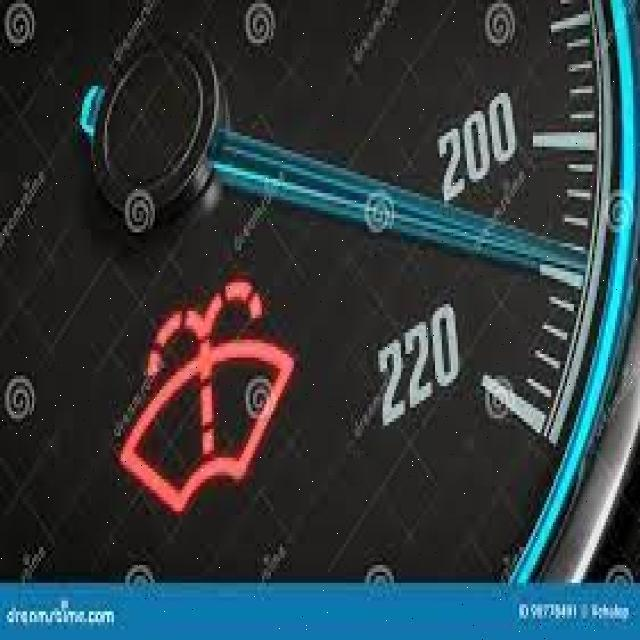Washer Fluid: (120, 277, 294, 513)
